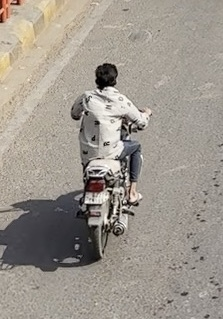BikeWithRider: (65, 58, 156, 262)
NoHelmet: (88, 59, 123, 93)
